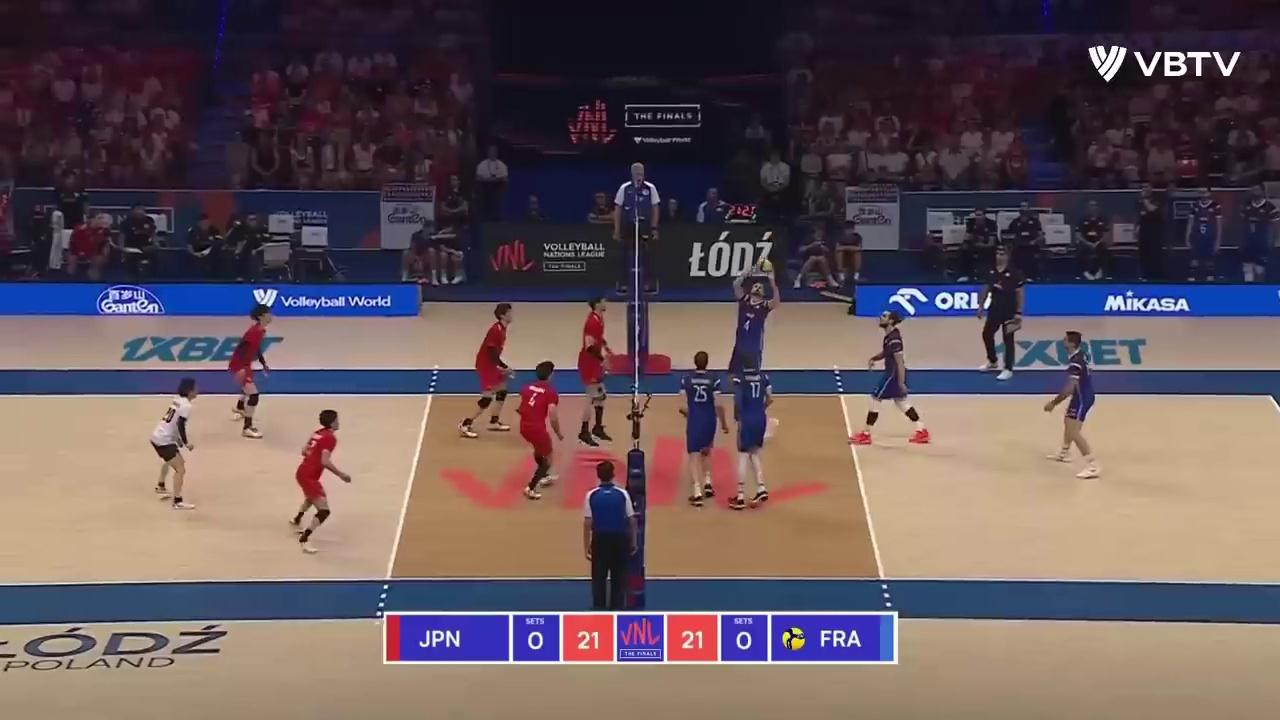ball: (757, 258, 773, 277)
